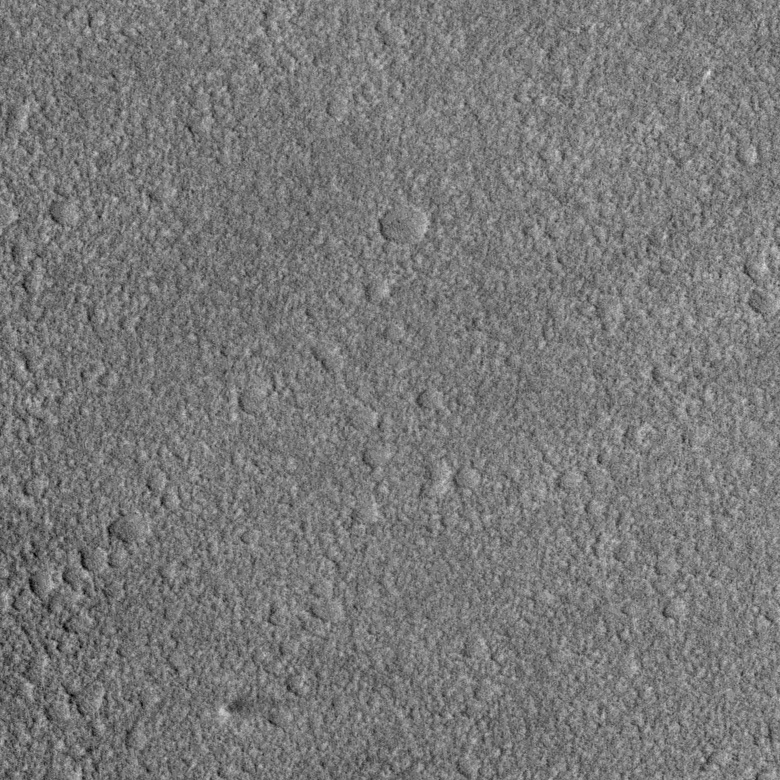dust_devil: (216, 695, 283, 719)
